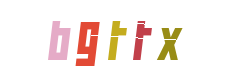B: (34, 0, 114, 80)
G: (64, 0, 144, 80)
T: (78, 0, 158, 80), (79, 0, 159, 80)
X: (129, 0, 209, 80)
